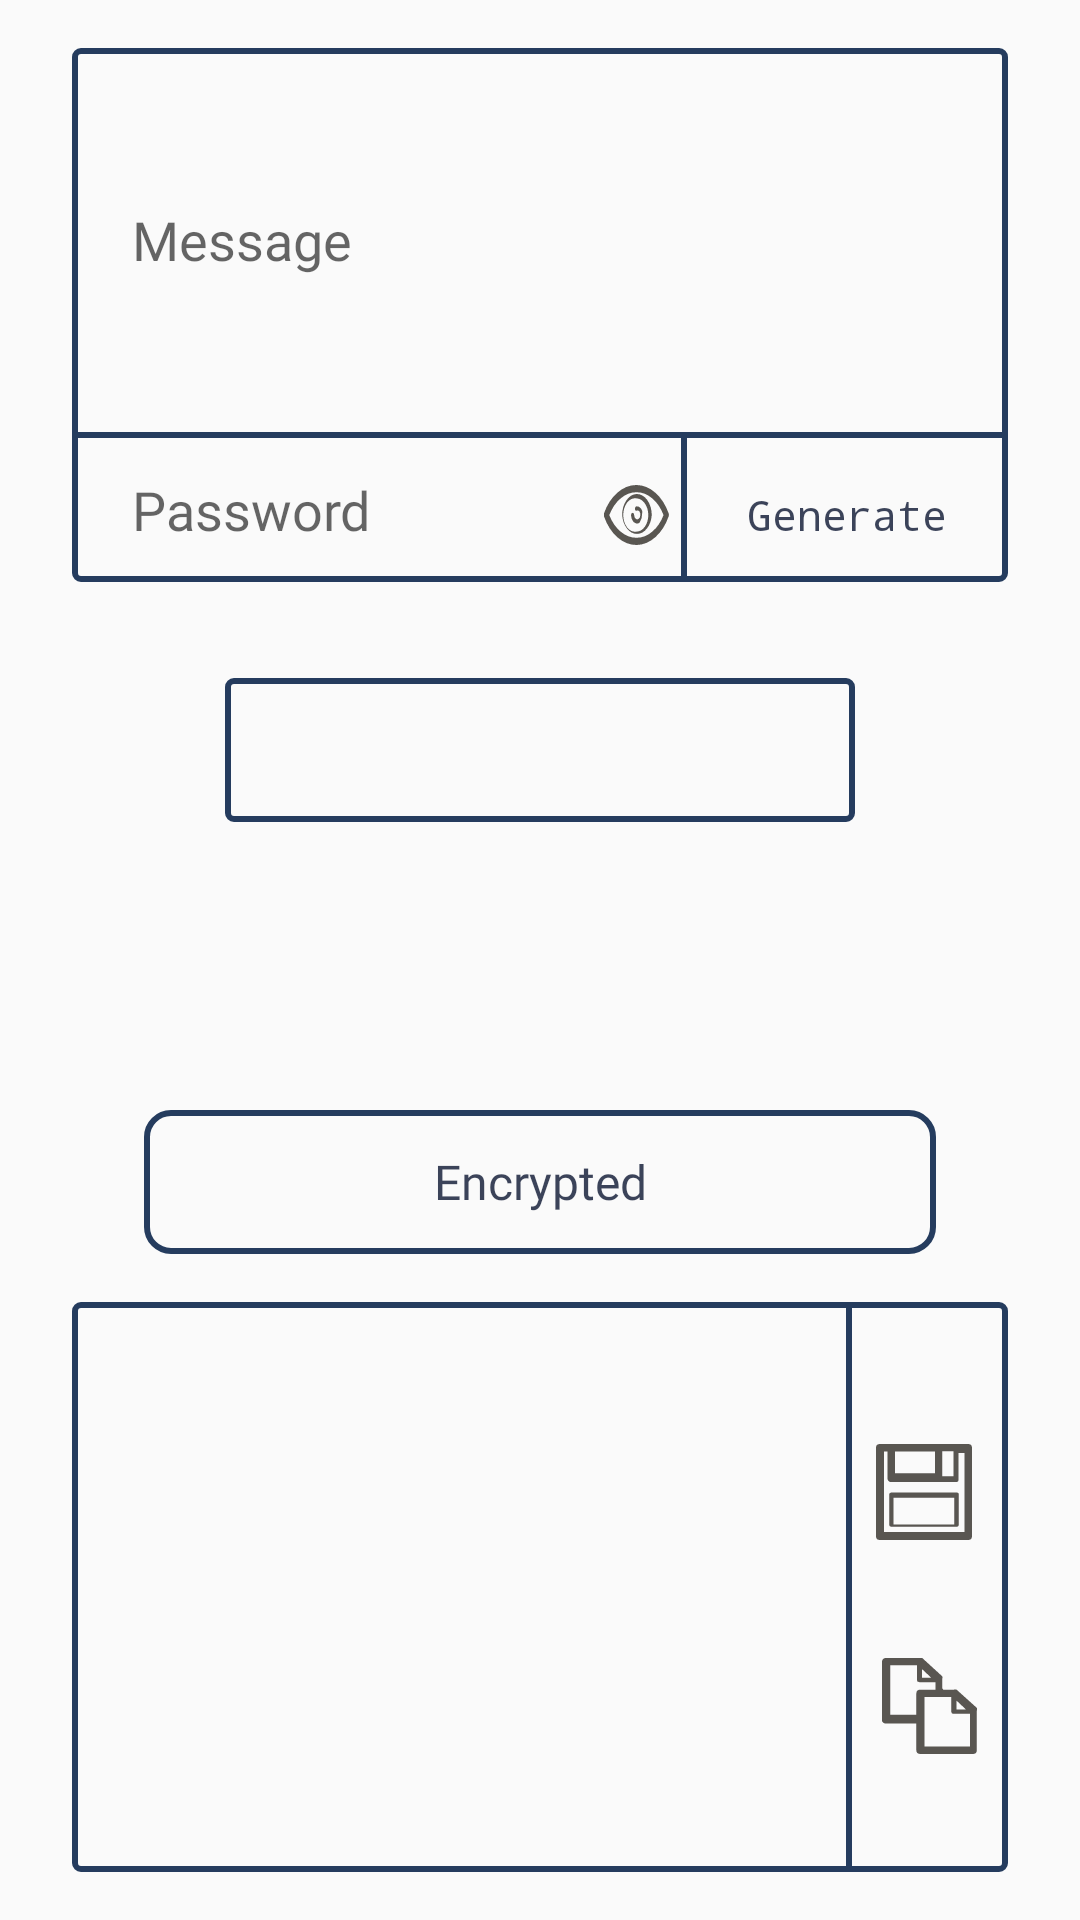

Screen size 1080×1920. Icon name, then its center in pixels as point (x, y):
eye: point (636, 515)
